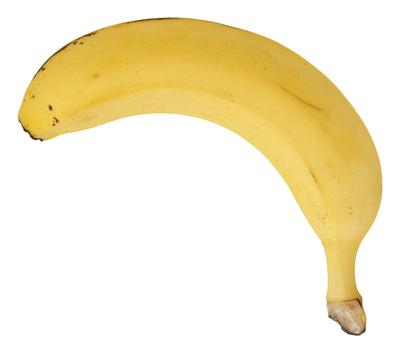banana: (0, 0, 400, 352)
